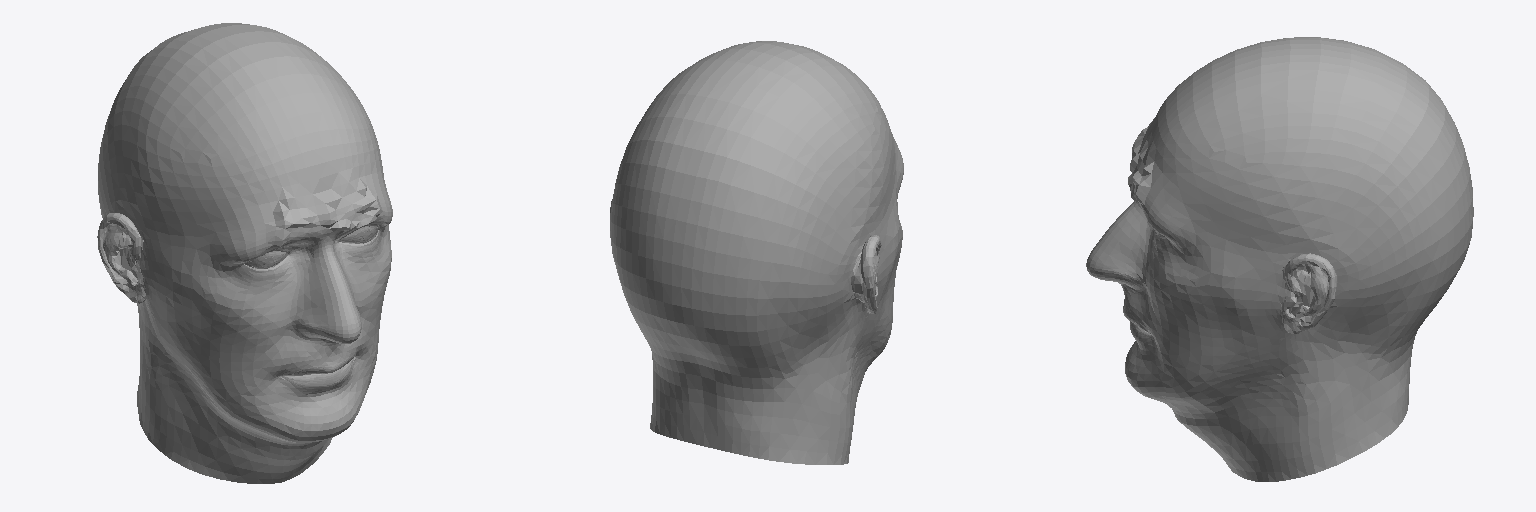
Rendered from White Guy Face2.obj.
The picture shows the model from 3 angles: view 1: azimuth 30°, elevation 25°; view 2: azimuth 150°, elevation 25°; view 3: azimuth 270°, elevation 25°; orthographic projection.
Visible parts, largest first — view 1: HeadHires; view 2: HeadHires; view 3: HeadHires.
Boxes of the visible parts, x1,y1,x2,y2 form: HeadHires: [97, 23, 392, 483]; HeadHires: [610, 41, 903, 464]; HeadHires: [1086, 37, 1473, 481].
Size of the model in its own units: 188 by 283 by 239.